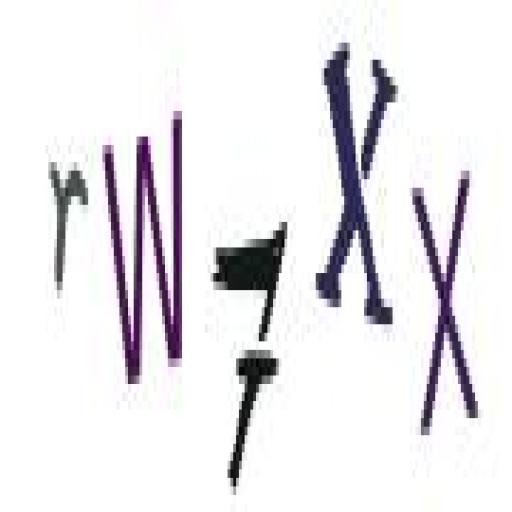7: (205, 226, 297, 496)
W: (99, 97, 195, 391)
X: (317, 17, 400, 346), (404, 151, 492, 452)
r: (44, 141, 94, 324)
